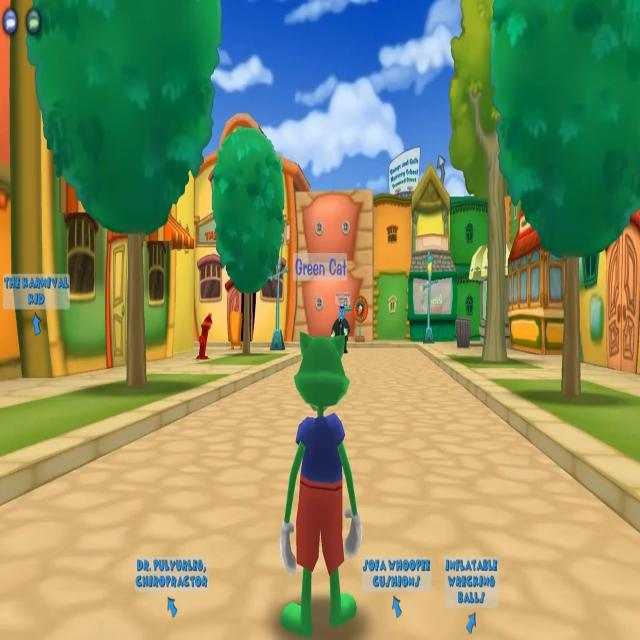shortchange: (325, 290, 360, 358)
